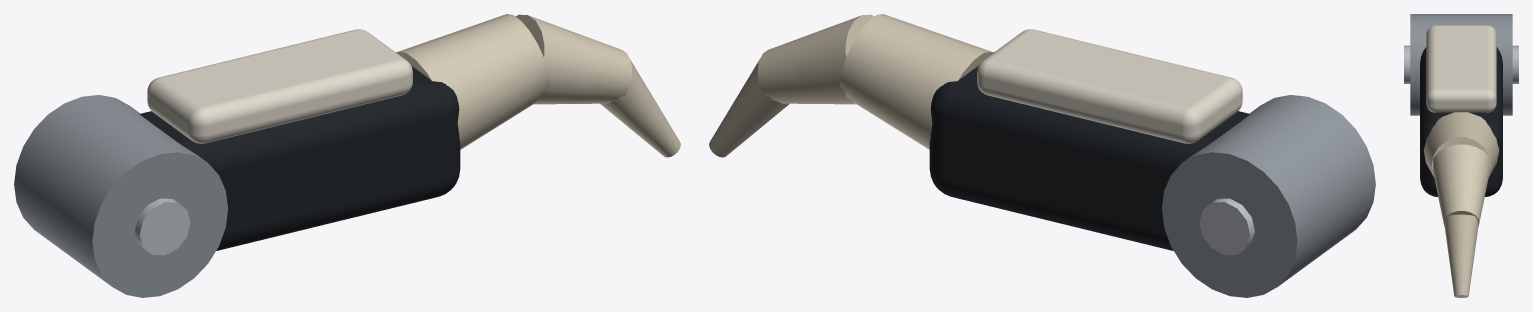
Rendered from right_toe_1_distal_link.glb.
3 renders of one model, left to right at view 1: azimuth 30°, elevation 25°; view 2: azimuth 150°, elevation 25°; view 3: azimuth 270°, elevation 25°, orthographic. The views are drawn at different scales.
Parts seen in each view (by area): view 1: right_toe_1_distal_link; view 2: right_toe_1_distal_link; view 3: right_toe_1_distal_link.
Boxes of the visible parts, x1,y1,x2,y2 form: right_toe_1_distal_link: [14, 14, 680, 297]; right_toe_1_distal_link: [709, 14, 1375, 297]; right_toe_1_distal_link: [1404, 14, 1518, 297].
Size of the model in its own units: 0.1475 by 0.0408 by 0.036.
